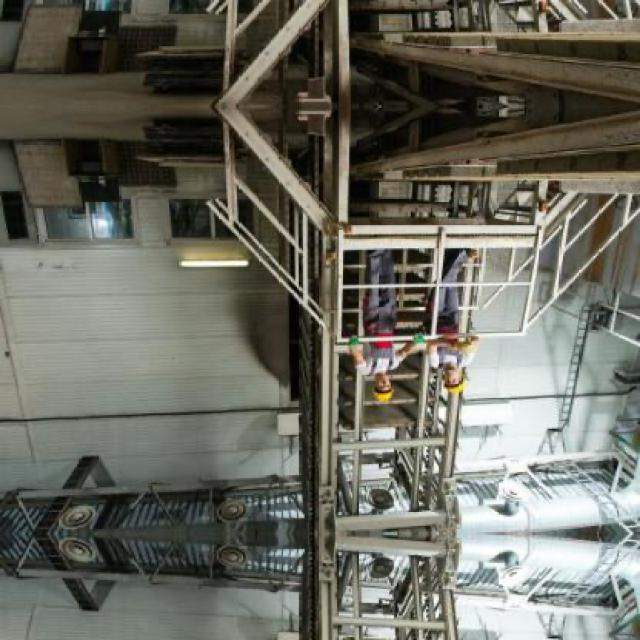con casco: (358, 361, 396, 406), (430, 359, 464, 393)
